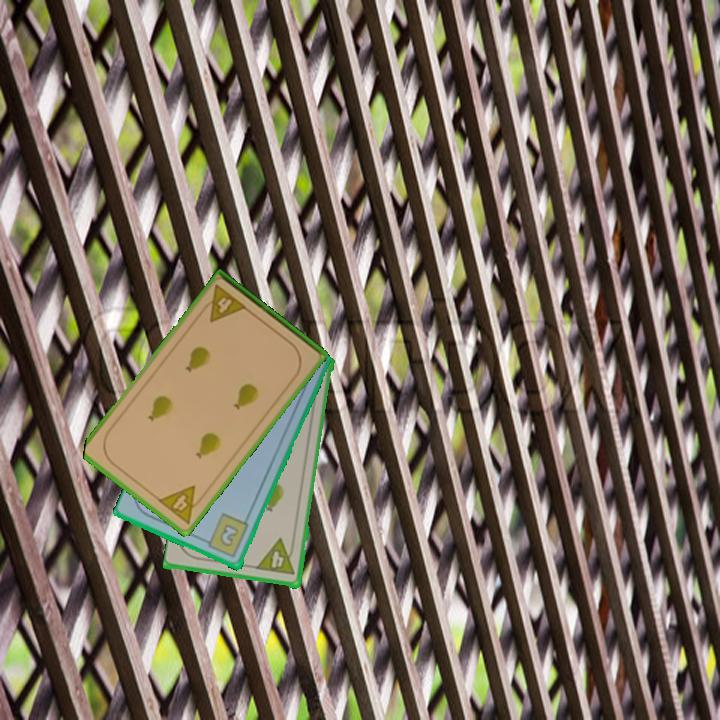2b: (199, 510, 252, 561)
4p: (154, 482, 209, 527), (197, 281, 250, 325), (254, 536, 298, 578)
